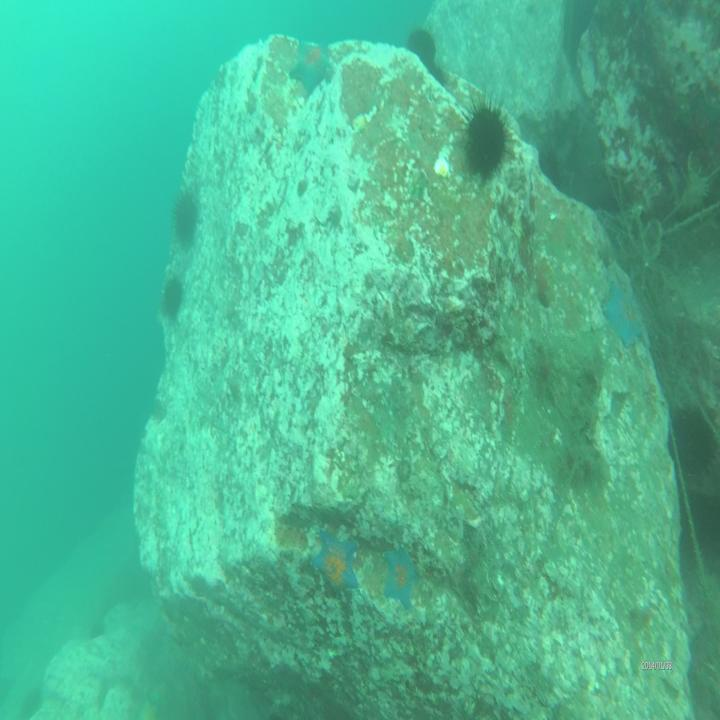echinus: (456, 79, 518, 186), (168, 182, 203, 254), (156, 262, 184, 326), (404, 20, 436, 74)
starfish: (312, 522, 362, 596), (601, 273, 645, 350), (381, 540, 420, 611)
